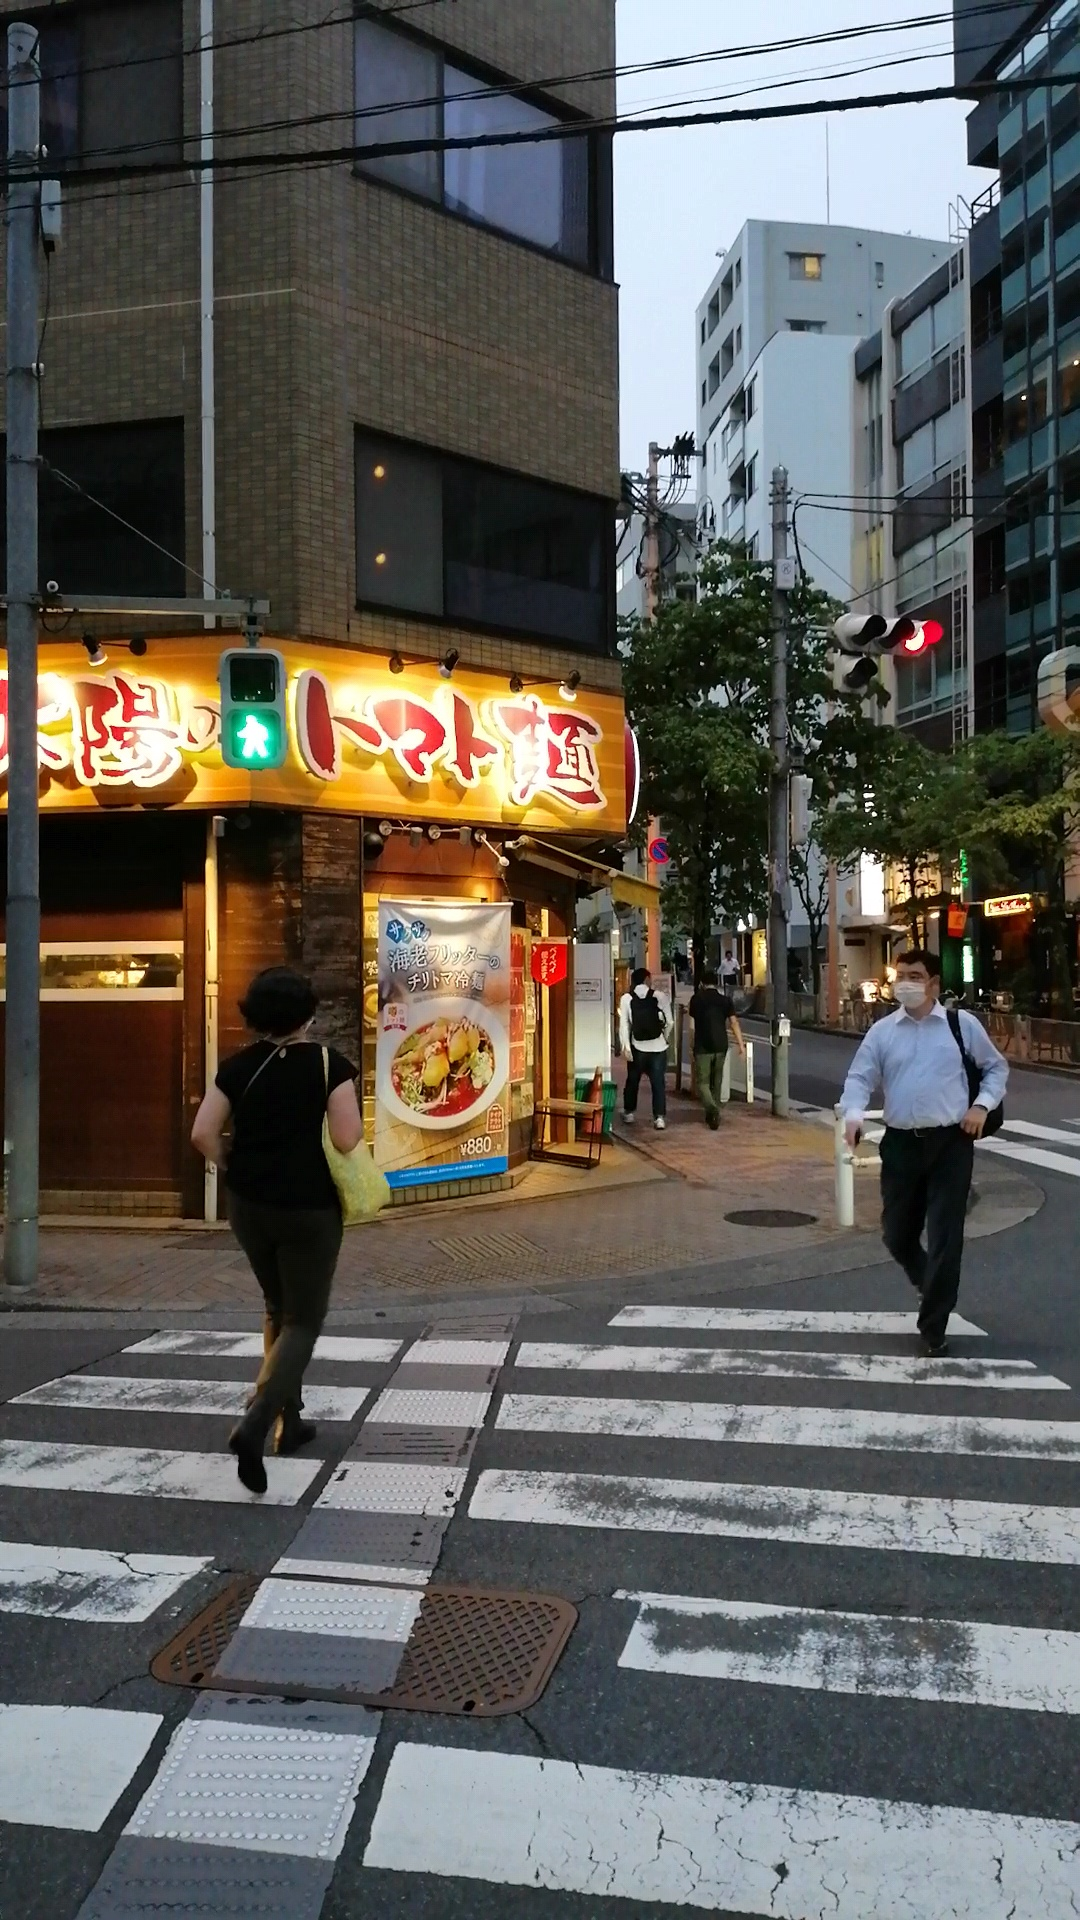green: (218, 647, 287, 770)
